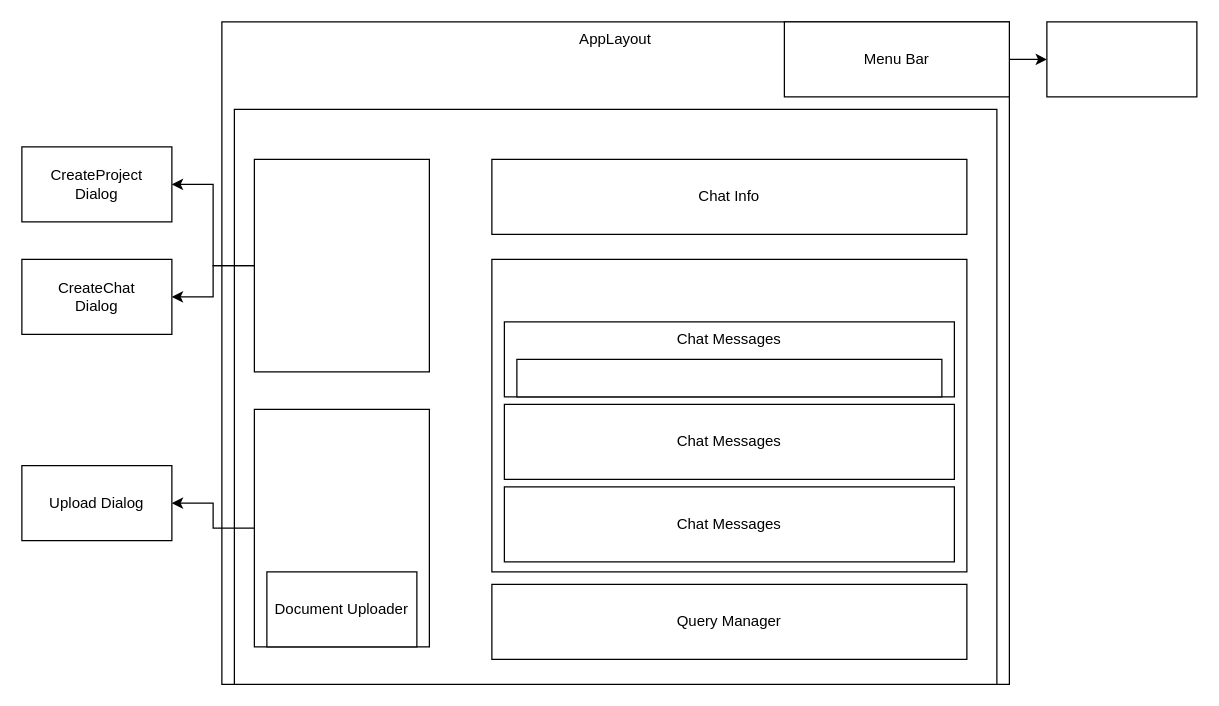
The diagram is 1219 pixels wide and 706 high, and some of its shapes have lost their labels. The box of each missing label's shape, as (x1, y1, x2, y2) in pixels:
Chat Panel: (491, 258, 967, 572)
DocGPT: (233, 108, 997, 684)
Document Manager: (253, 408, 429, 647)
Message Sources: (516, 358, 942, 397)
Project Manager: (253, 158, 429, 372)
Settings Dialog: (1046, 21, 1197, 97)
